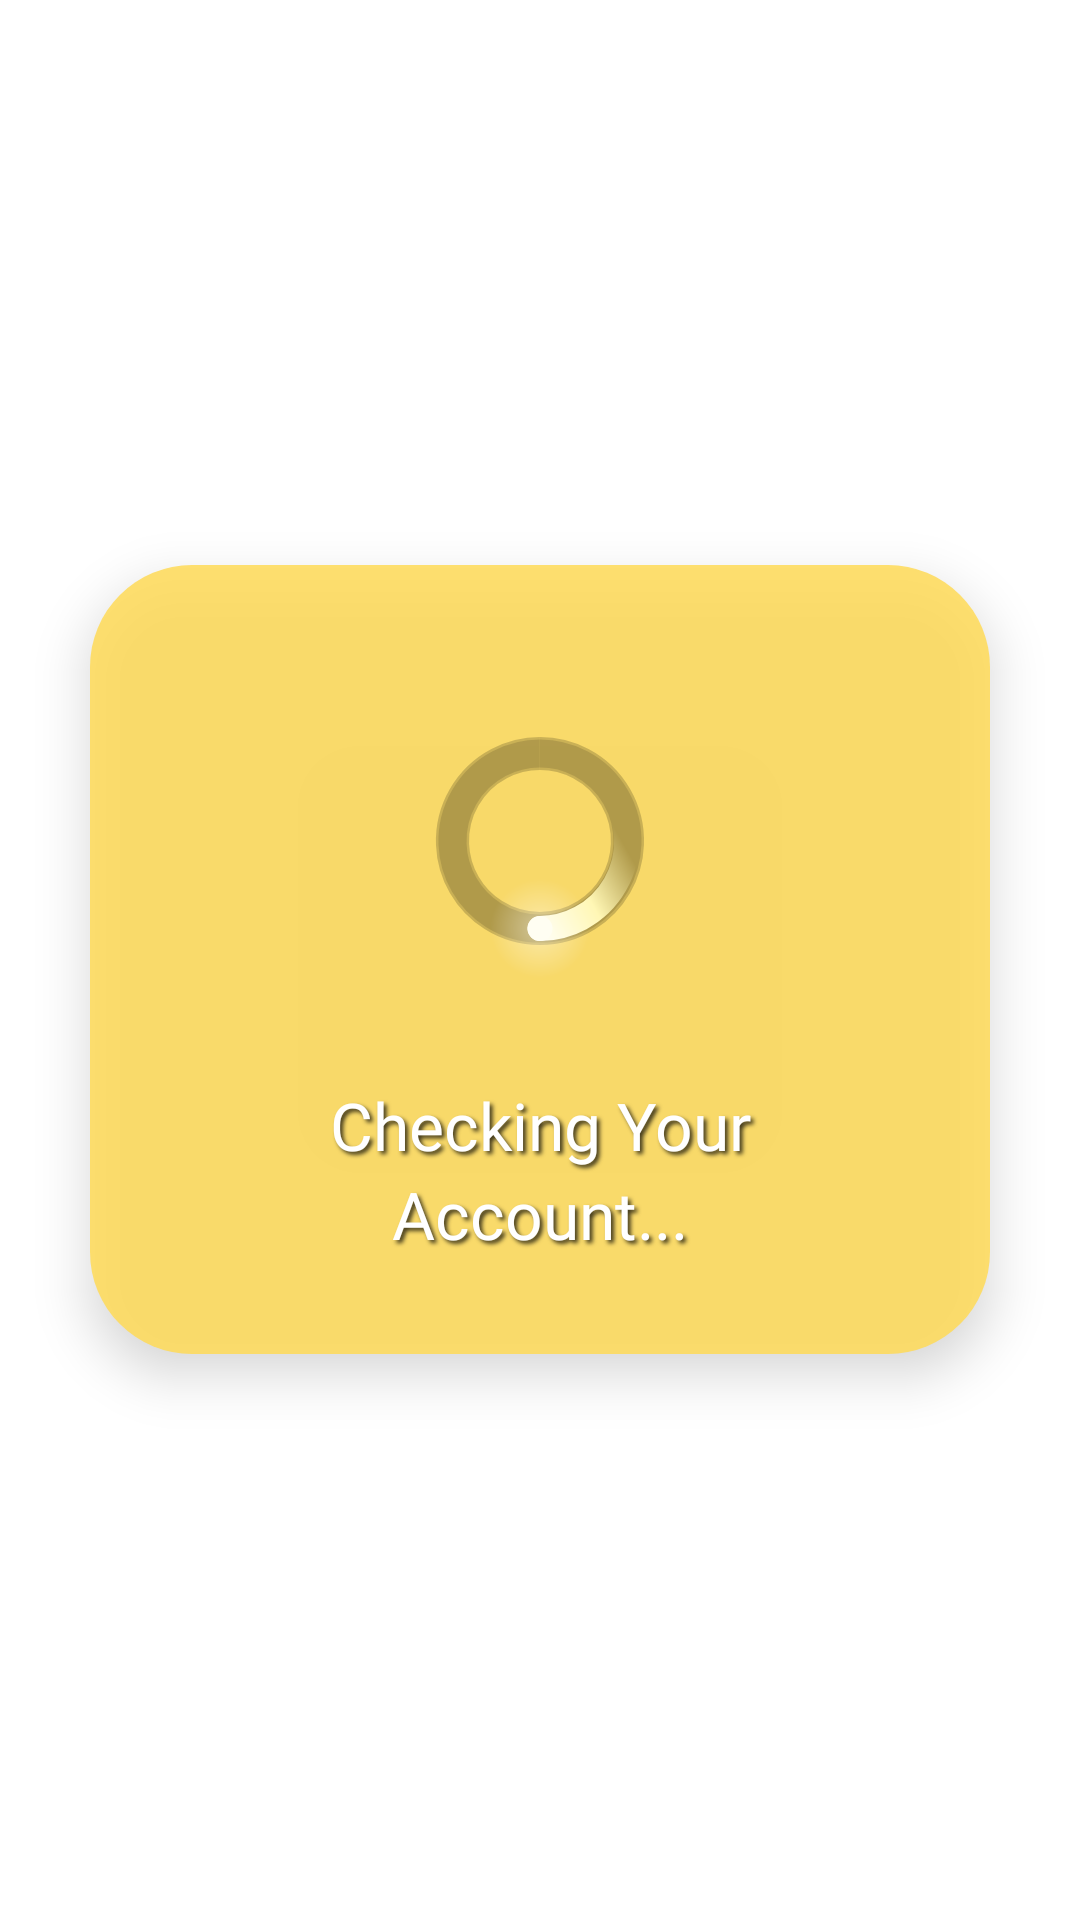

Icons on this 1080 × 1920 Android screen, each with its box as (x1, y1, x2, y2):
spinner track: (436, 737, 644, 960)
